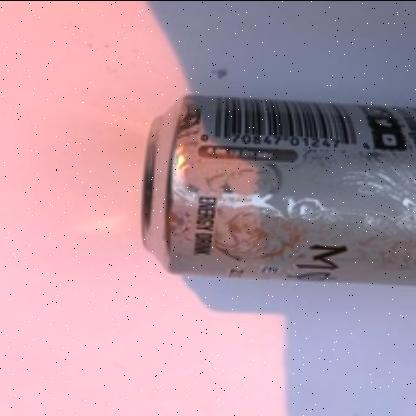Can: (140, 94, 416, 284)
